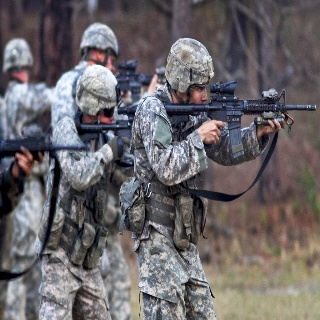rifle: (163, 80, 318, 160)
